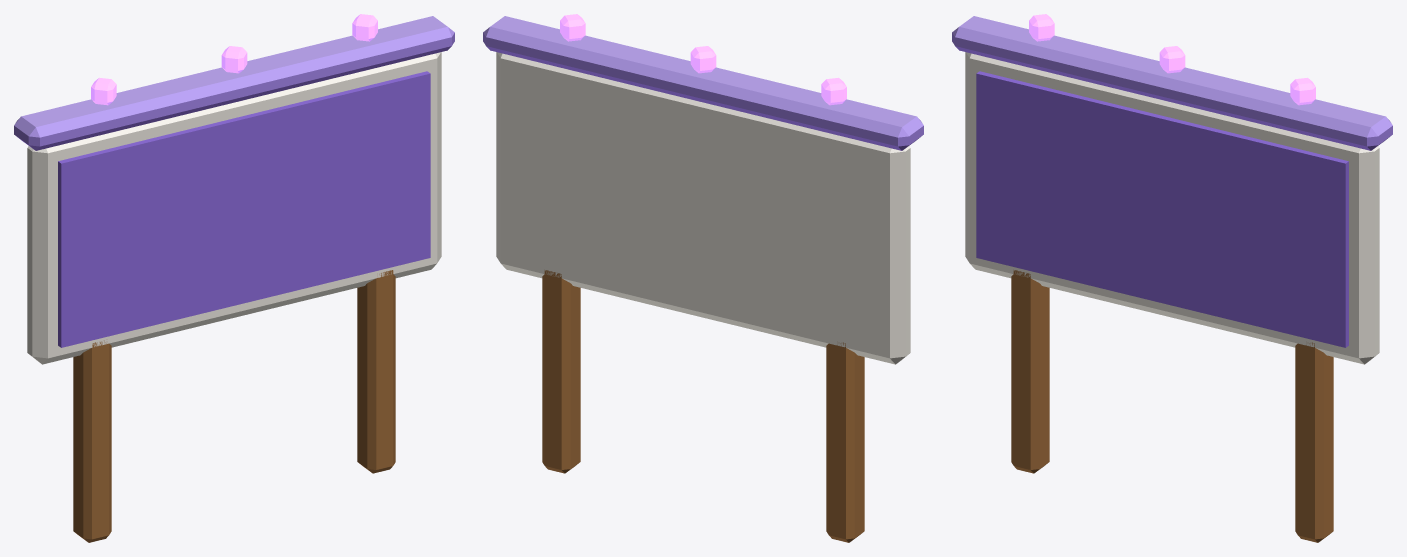
The model's file is OwnerBoard_5.glb.
3 views of the same model, side by side, from view 1: azimuth 30°, elevation 25°; view 2: azimuth 150°, elevation 25°; view 3: azimuth 330°, elevation 25° (orthographic).
Parts seen in each view (by area): view 1: OwnerBoard_5, OwnerBoard_5_Glow_acc5; view 2: OwnerBoard_5, OwnerBoard_5_Glow_acc5; view 3: OwnerBoard_5, OwnerBoard_5_Glow_acc5.
Boxes of the visible parts, left/top/right/bottom form: OwnerBoard_5: left=14, top=16, right=454, bottom=542; OwnerBoard_5_Glow_acc5: left=91, top=14, right=377, bottom=105; OwnerBoard_5: left=483, top=16, right=923, bottom=542; OwnerBoard_5_Glow_acc5: left=560, top=14, right=846, bottom=105; OwnerBoard_5: left=952, top=16, right=1392, bottom=542; OwnerBoard_5_Glow_acc5: left=1029, top=14, right=1315, bottom=105.
Bounding box in the file's own units: 15 × 15.25 × 1.4.
2 materials, 1 textured.
